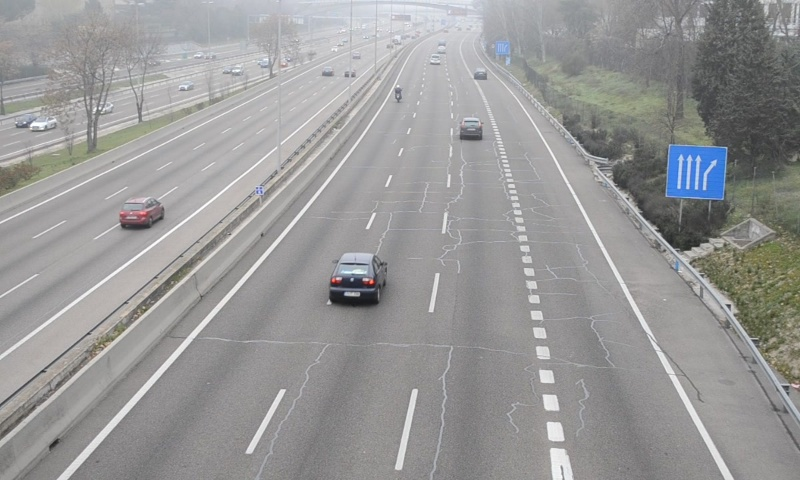car: (327, 250, 387, 306), (458, 117, 483, 142), (473, 68, 486, 80)
motorcycle: (393, 85, 402, 106)
